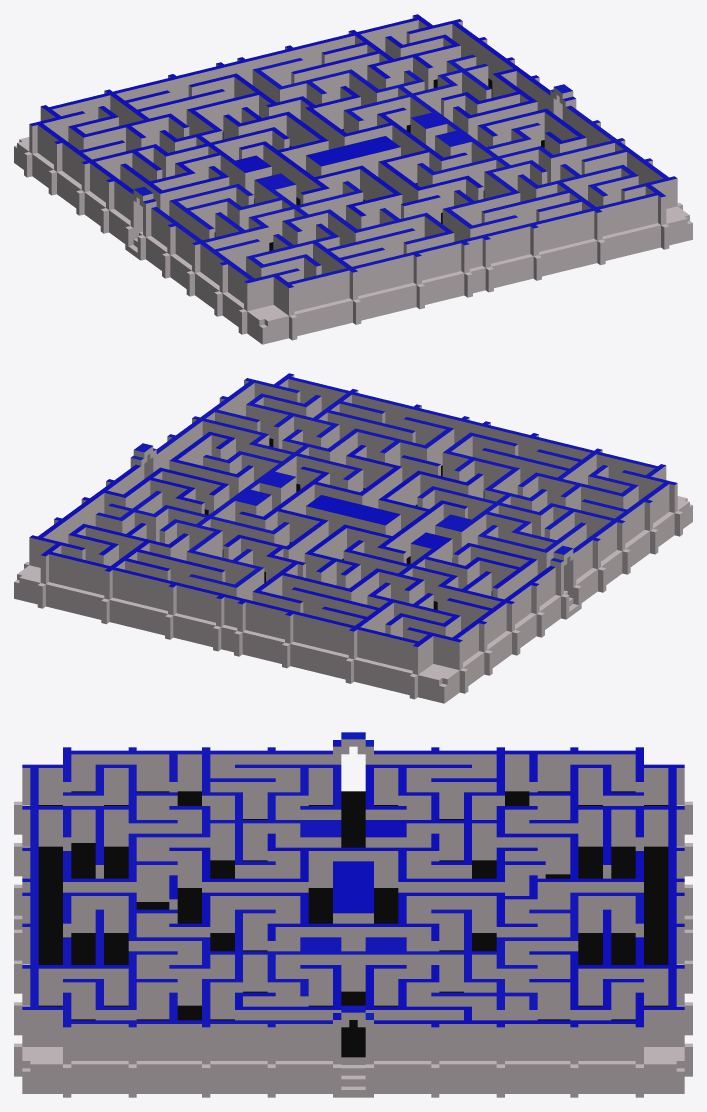
Rendered from maze1.obj.
3 views of the same model, one above another, from view 1: azimuth 30°, elevation 25°; view 2: azimuth 150°, elevation 25°; view 3: azimuth 270°, elevation 25° (orthographic). The views are drawn at different scales.
Parts seen in each view (by area): view 1: MAZE.638, MAZE.641, MAZE.314, MAZE.009, MAZE.457, MAZE.635, MAZE.639, MAZE.316, MAZE.321, MAZE.317, MAZE.322, MAZE.151 (+63 smaller); view 2: MAZE.638, MAZE.641, MAZE.609, MAZE.009, MAZE.460, MAZE.637, MAZE.639, MAZE.601, MAZE.606, MAZE.602, MAZE.607, MAZE.151 (+62 smaller); view 3: MAZE.638, MAZE.636, MAZE.641, MAZE.295, MAZE.252, MAZE.155, MAZE.639, MAZE.243, MAZE.153, MAZE.157, MAZE.288, MAZE.293 (+98 smaller).
Part boxes in pixels (bbox=[...]): MAZE.638: bbox=[151, 54, 677, 287]; MAZE.641: bbox=[30, 14, 550, 193]; MAZE.314: bbox=[262, 196, 692, 344]; MAZE.009: bbox=[14, 124, 262, 344]; MAZE.457: bbox=[116, 35, 354, 101]; MAZE.635: bbox=[138, 202, 689, 320]; MAZE.639: bbox=[223, 107, 401, 216]; MAZE.316: bbox=[292, 270, 349, 311]; MAZE.321: bbox=[536, 211, 594, 251]; MAZE.317: bbox=[355, 255, 413, 295]; MAZE.322: bbox=[600, 195, 657, 236]; MAZE.151: bbox=[516, 71, 611, 146]; MAZE.638: bbox=[96, 373, 676, 587]; MAZE.641: bbox=[29, 445, 555, 646]; MAZE.609: bbox=[14, 555, 444, 703]; MAZE.009: bbox=[444, 483, 692, 703]; MAZE.460: bbox=[352, 394, 590, 460]; MAZE.637: bbox=[17, 561, 568, 679]; MAZE.639: bbox=[305, 470, 483, 575]; MAZE.601: bbox=[357, 629, 414, 670]; MAZE.606: bbox=[112, 570, 170, 610]; MAZE.602: bbox=[293, 614, 351, 654]; MAZE.607: bbox=[49, 554, 106, 595]; MAZE.151: bbox=[108, 421, 202, 494]; MAZE.638: bbox=[22, 747, 643, 1027]; MAZE.636: bbox=[38, 791, 668, 1057]; MAZE.641: bbox=[169, 747, 684, 1027]; MAZE.295: bbox=[22, 1012, 684, 1093]; MAZE.252: bbox=[275, 954, 463, 991]; MAZE.155: bbox=[210, 739, 496, 778]; MAZE.639: bbox=[169, 833, 545, 881]; MAZE.243: bbox=[275, 927, 431, 951]; MAZE.153: bbox=[71, 754, 169, 791]; MAZE.157: bbox=[537, 754, 635, 791]; MAZE.288: bbox=[136, 1024, 201, 1060]; MAZE.293: bbox=[505, 1024, 570, 1060].
Size of the model in its own units: 83 by 12 by 83.
